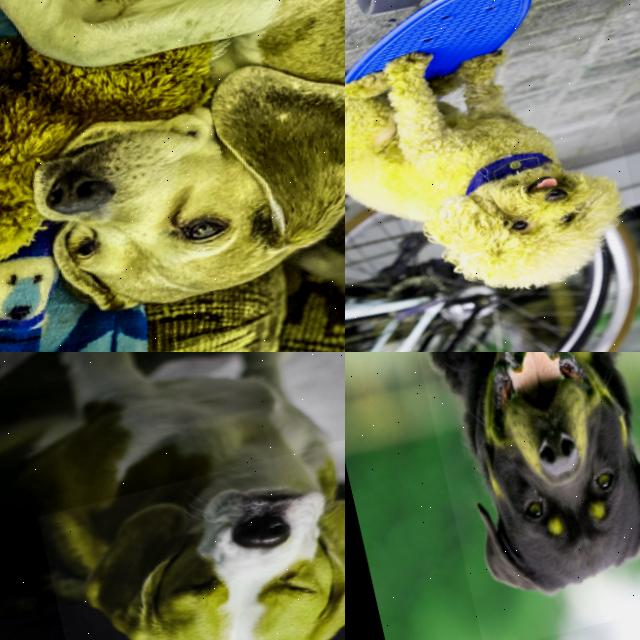beagle: (0, 23, 345, 348), (36, 430, 345, 640)
poodle: (397, 114, 640, 337)
rottweiler: (396, 352, 640, 640)
